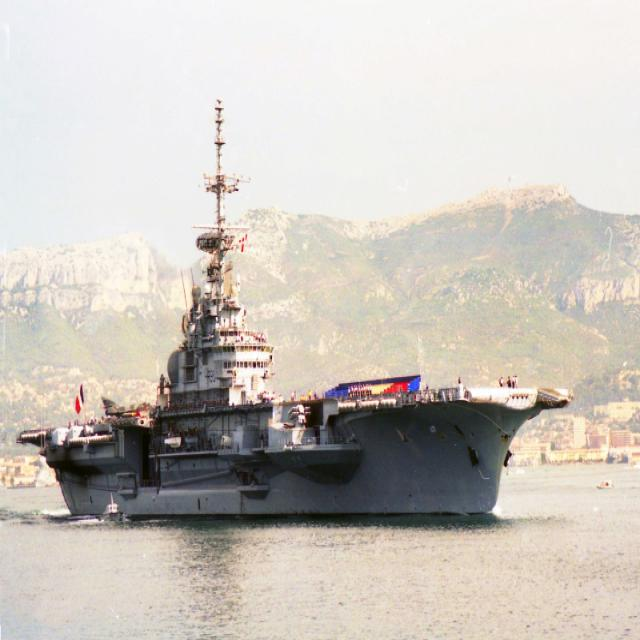Portanaves: (19, 92, 574, 526)
